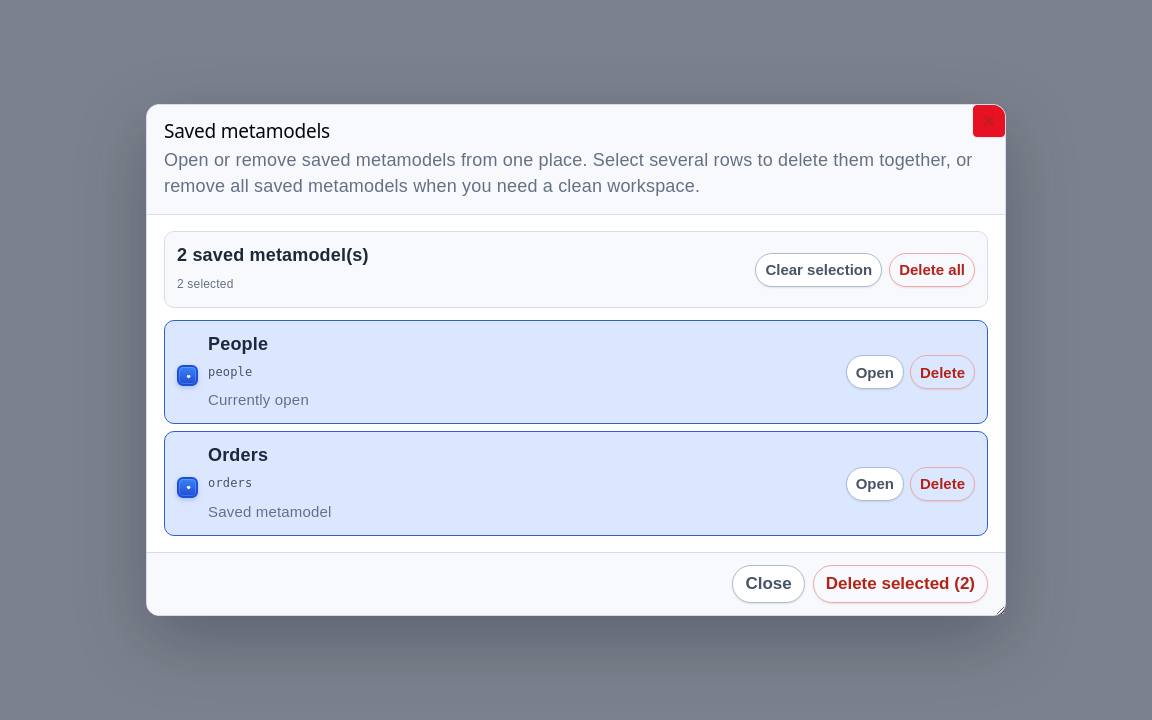
Test case: MetamodelLibraryDialog › reviews lifecycle impact before deleting several metamodels
Click the button "Delete selected (2)" at (900, 584), box [813, 565, 988, 603]
(page scrolled)
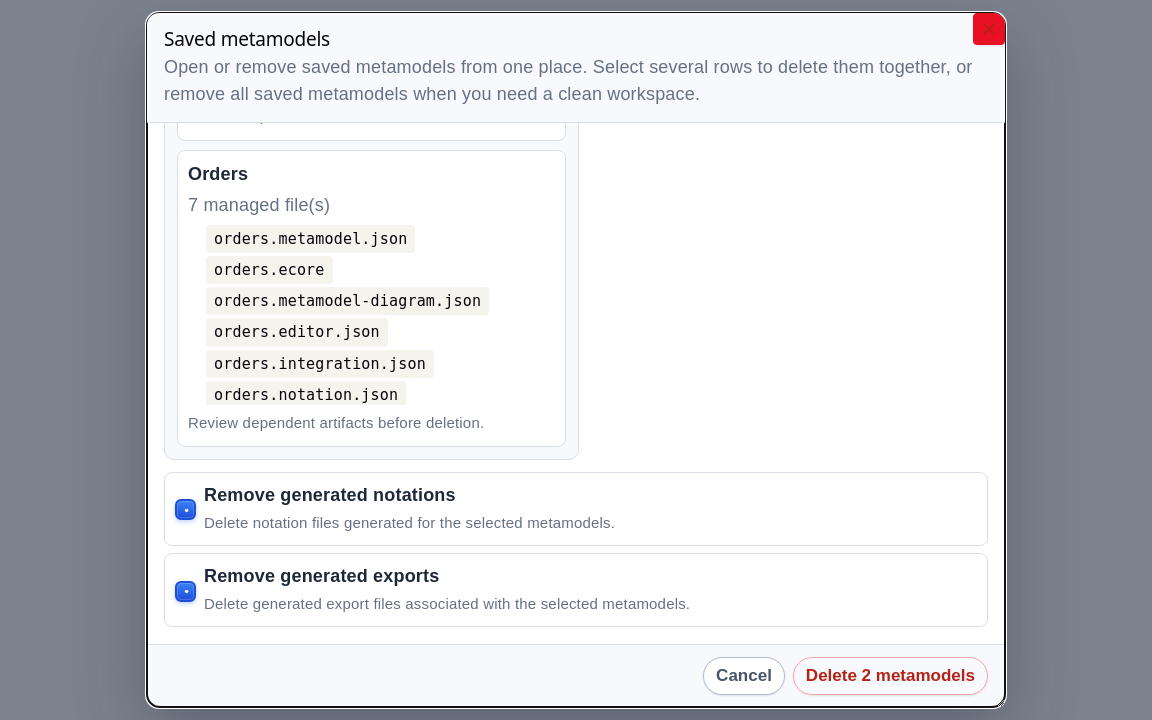
Expected: the checkbox labelled "Remove generated notations" is checked, [175, 499, 196, 520]
Now the text "orders.editor.json" is shown, box [206, 318, 388, 347]
